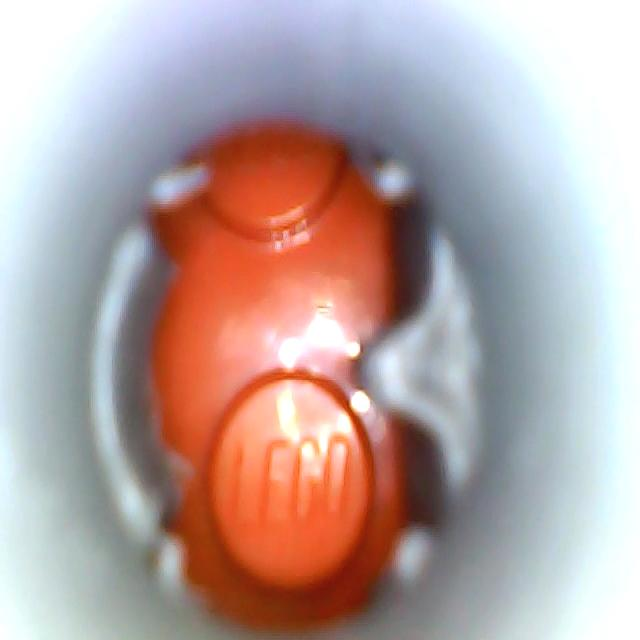studs: (208, 373, 373, 588), (202, 123, 349, 241)
